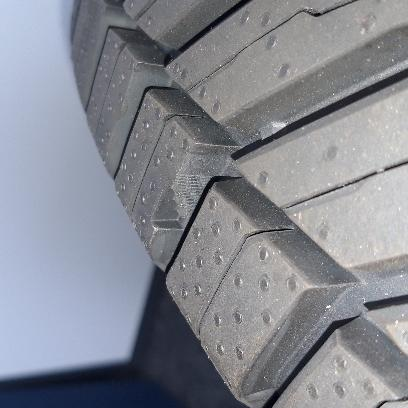temoin:100: (149, 171, 215, 231)
